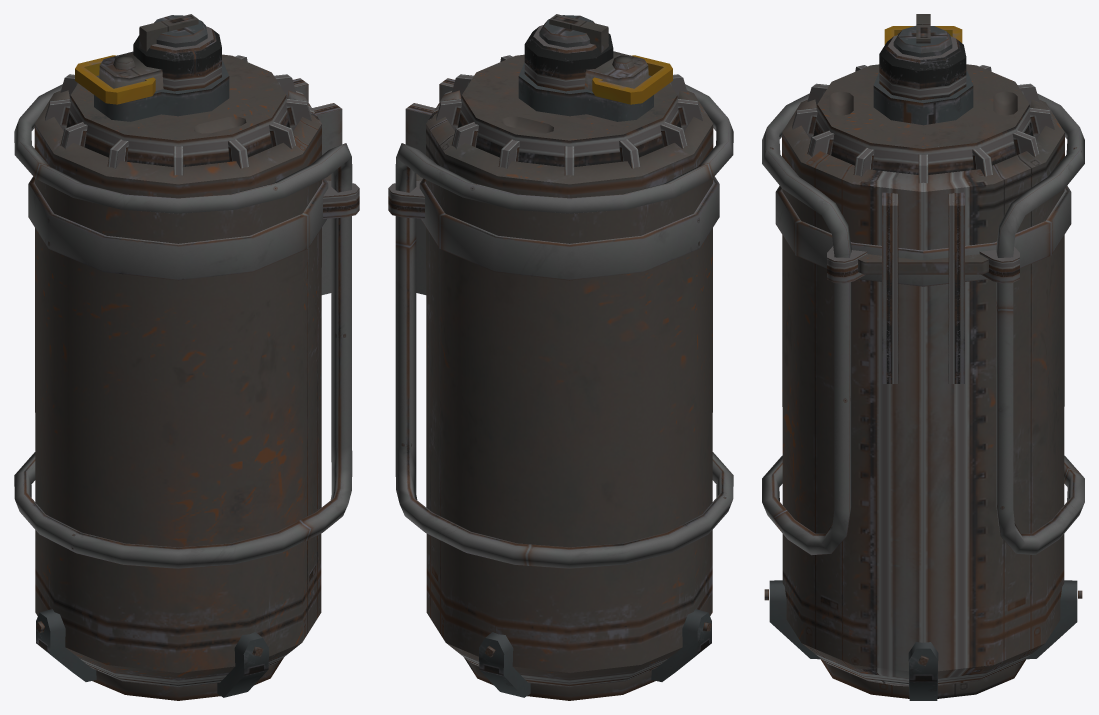
File: Prop_Cylinder2_L1.fbx
The picture shows the model from 3 angles, left to right: view 1: azimuth 30°, elevation 25°; view 2: azimuth 150°, elevation 25°; view 3: azimuth 270°, elevation 25°; orthographic projection.
Parts seen in each view (by area): view 1: Prop_Cylinder2_L1; view 2: Prop_Cylinder2_L1; view 3: Prop_Cylinder2_L1.
Boxes of the visible parts, x1=… form: Prop_Cylinder2_L1: x1=14, y1=14, x2=359, y2=700; Prop_Cylinder2_L1: x1=388, y1=14, x2=733, y2=700; Prop_Cylinder2_L1: x1=762, y1=14, x2=1084, y2=700.
Bounding box in the file's own units: 79.28 × 168 × 78.7.
